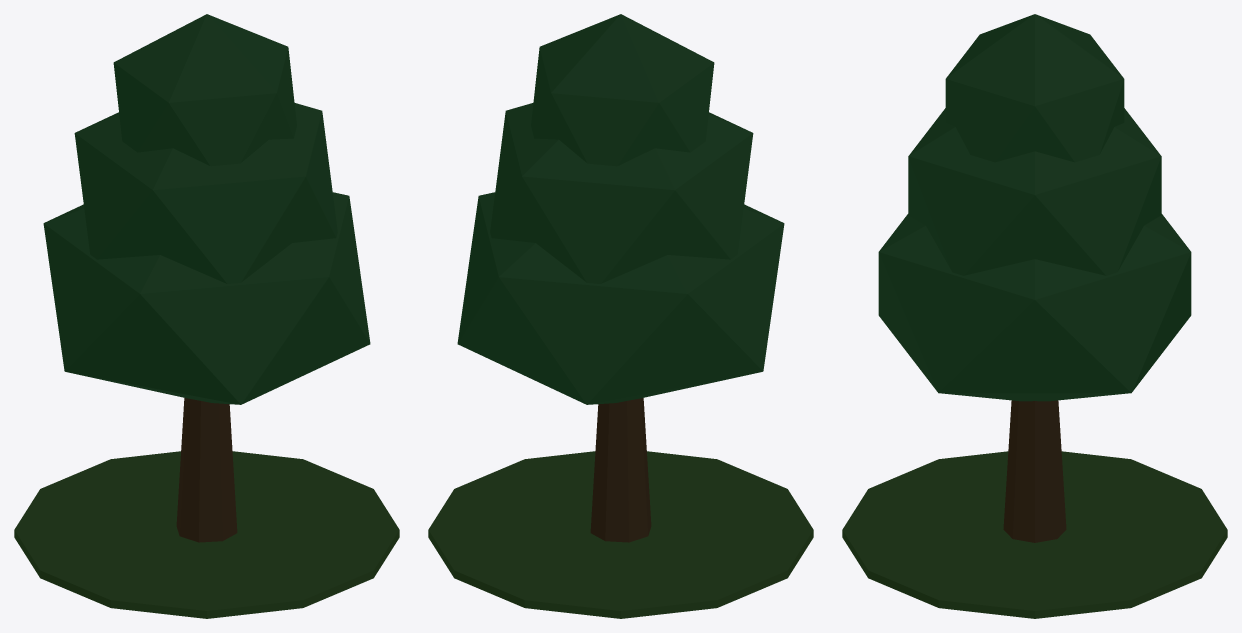
The model's file is Tree.glb.
3 views of the same model, side by side, from view 1: azimuth 30°, elevation 25°; view 2: azimuth 150°, elevation 25°; view 3: azimuth 270°, elevation 25° (orthographic).
Visible parts, largest first — view 1: Ground, Canopy_Bottom, Canopy_Mid, Canopy_Top, Trunk; view 2: Ground, Canopy_Bottom, Canopy_Mid, Canopy_Top, Trunk; view 3: Ground, Canopy_Bottom, Canopy_Mid, Canopy_Top, Trunk.
Boxes of the visible parts, <box> form: Ground: <box>14,451,399,618</box>; Canopy_Bottom: <box>43,192,370,404</box>; Canopy_Mid: <box>74,103,337,283</box>; Canopy_Top: <box>113,14,296,166</box>; Trunk: <box>176,398,237,542</box>; Ground: <box>428,451,813,618</box>; Canopy_Bottom: <box>457,192,784,404</box>; Canopy_Mid: <box>490,103,753,283</box>; Canopy_Top: <box>531,14,714,166</box>; Trunk: <box>590,398,651,542</box>; Ground: <box>842,451,1227,618</box>; Canopy_Bottom: <box>878,214,1191,401</box>; Canopy_Mid: <box>908,108,1161,275</box>; Canopy_Top: <box>945,14,1124,162</box>; Trunk: <box>1003,400,1066,542</box>.
Bounding box in the file's own units: 2.2 × 3.3 × 2.2.
